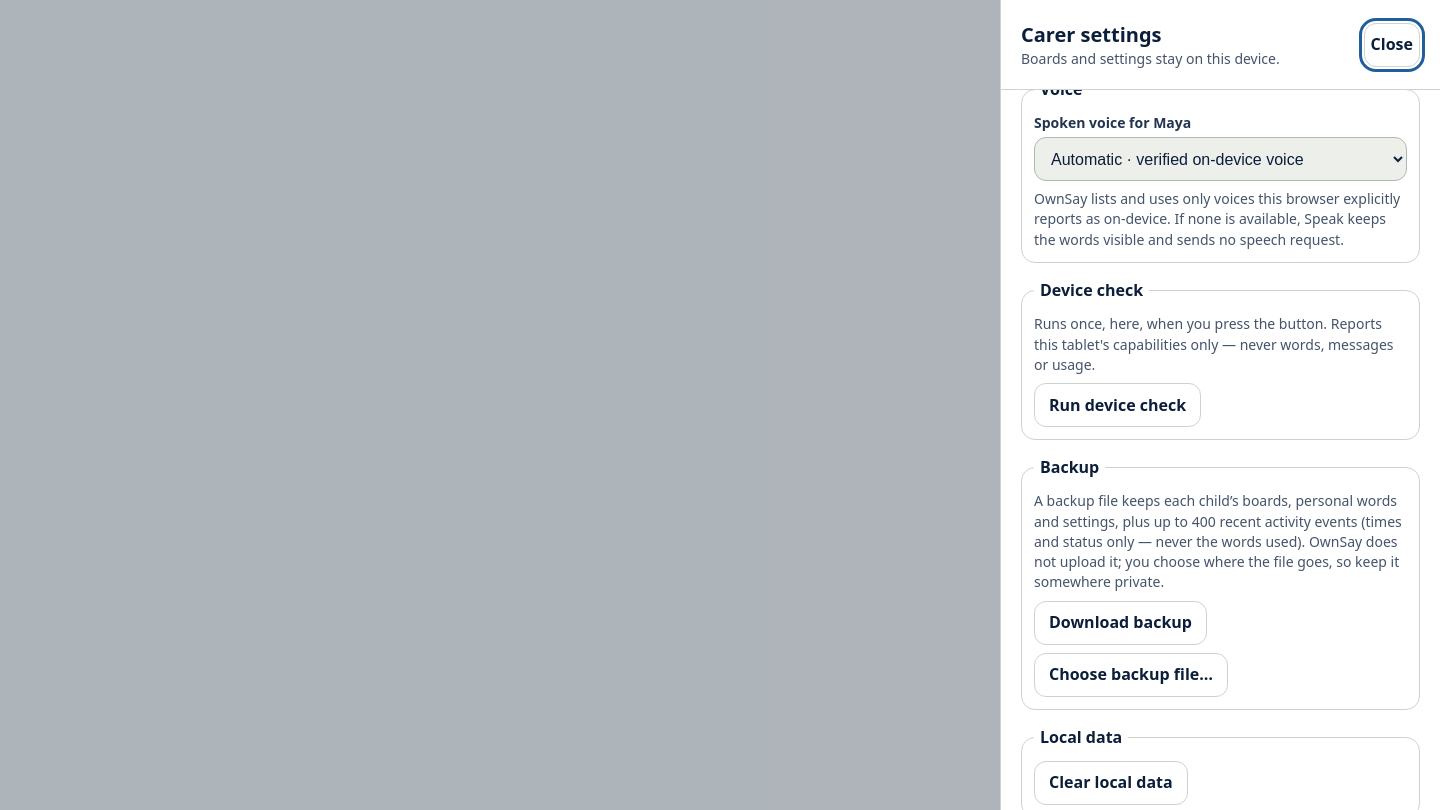
Test: carer drawer › device check audible proof › asks the carer whether they heard a completed attempt and records the answer
(page scrolled)
Click the button "Run device check" at [1118, 405], box [1034,383,1201,427]
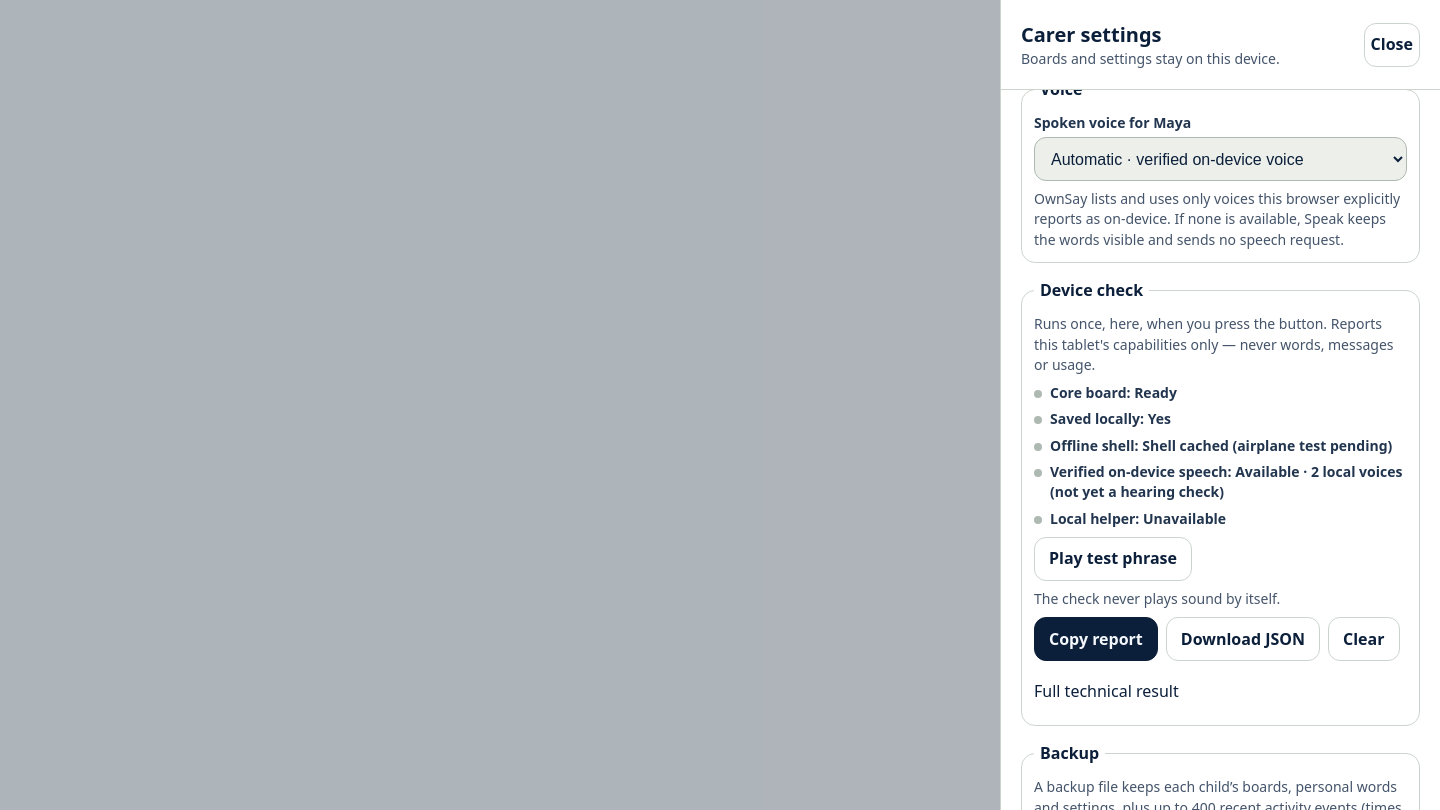
Now the list item "Verified on-device speech:" is shown, box [1050,462,1232,481]
Click the button "Play test phrase" at [1113, 559], box [1034,537,1192,581]
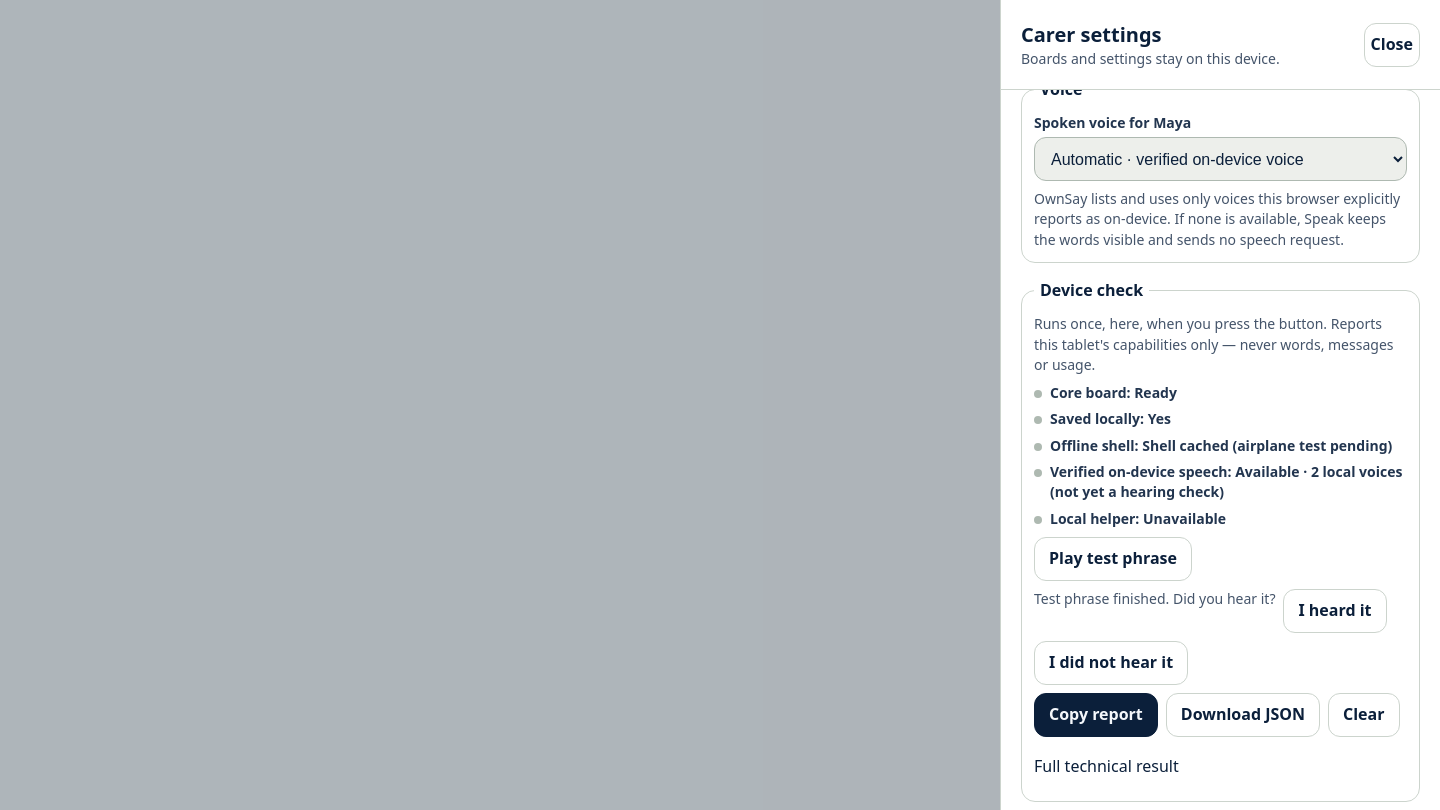
Now the text "Test phrase finished. Did you hear it?" is shown, box [1034,589,1276,608]
Click the button "I heard it" at [1335, 611], box [1284,589,1387,633]
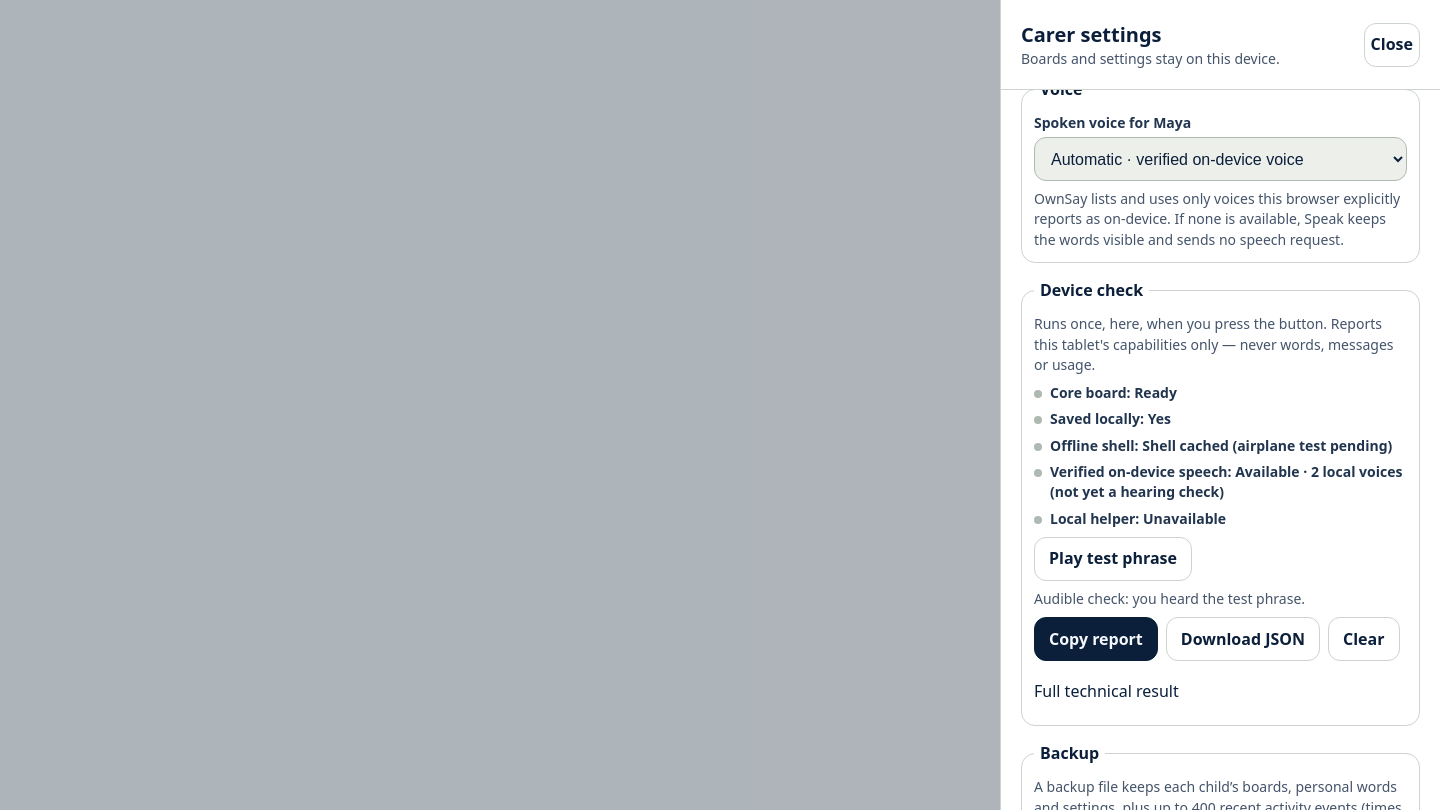
Now the text "Audible check: you heard the test phrase." is shown, box [1034,589,1305,608]
Now the button "I did not hear it" is gone
